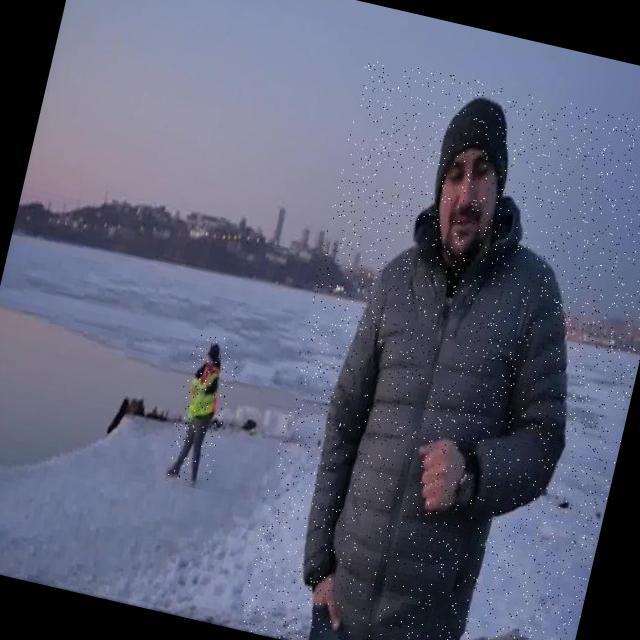safety_vest: (183, 359, 224, 428)
vehicle: (234, 55, 640, 640), (162, 331, 242, 486)
